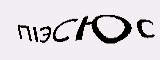І: (31, 25, 41, 42)
